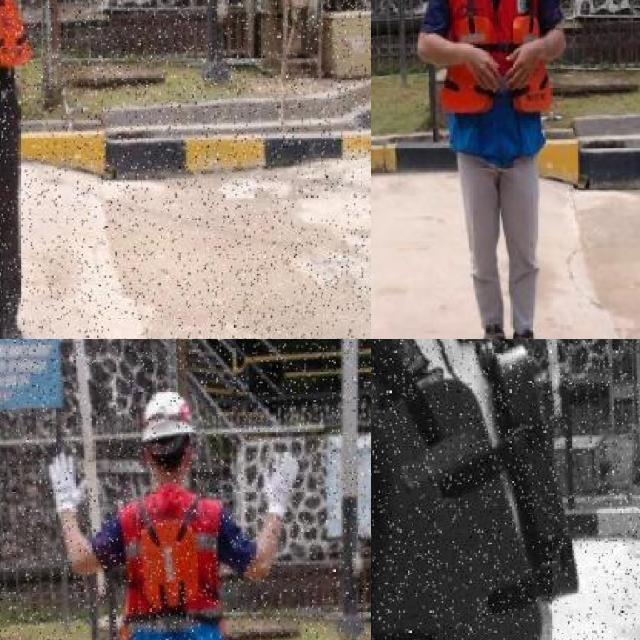apron: (48, 452, 88, 522), (262, 446, 299, 520)
